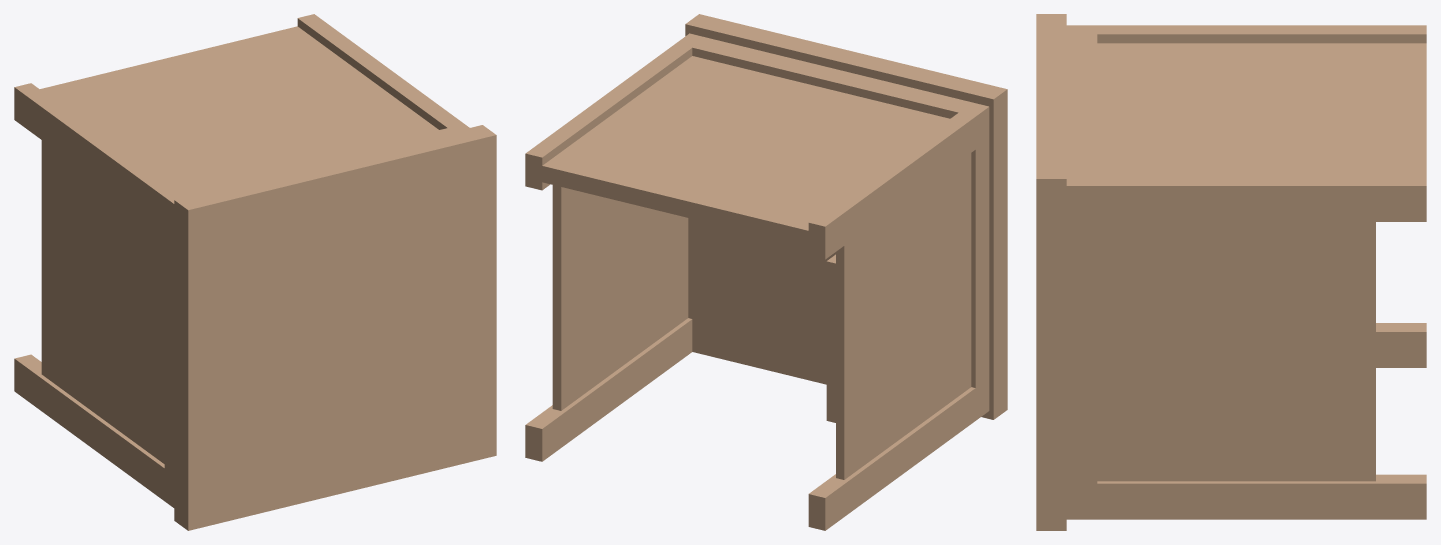
The model's file is desk.glb.
The picture shows the model from 3 angles, left to right: view 1: azimuth 30°, elevation 25°; view 2: azimuth 150°, elevation 25°; view 3: azimuth 270°, elevation 25°; orthographic projection. The views are drawn at different scales.
Parts seen in each view (by area): view 1: furniture/desk; view 2: furniture/desk; view 3: furniture/desk.
Boxes of the visible parts, x1,y1,x2,y2 form: furniture/desk: [14, 14, 496, 530]; furniture/desk: [525, 14, 1007, 530]; furniture/desk: [1036, 14, 1426, 530].
Size of the model in its own units: 1 by 1 by 1.
